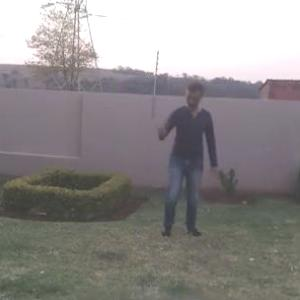takeoff-hand: (146, 110, 171, 142)
